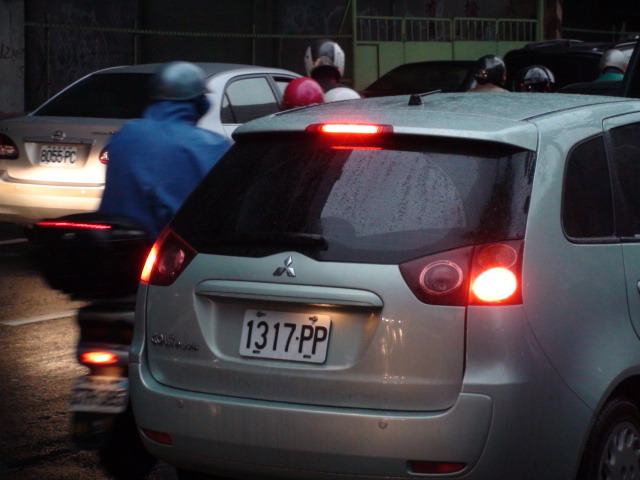plate: (238, 303, 336, 366), (37, 138, 78, 166)
